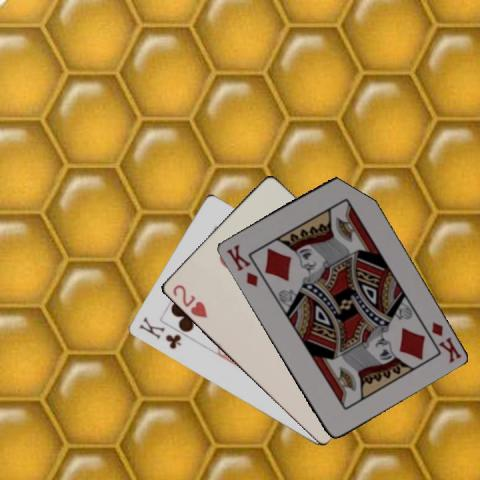2h: (169, 281, 209, 320)
Kc: (135, 314, 183, 351)
Kd: (223, 241, 259, 288), (428, 318, 463, 364)
